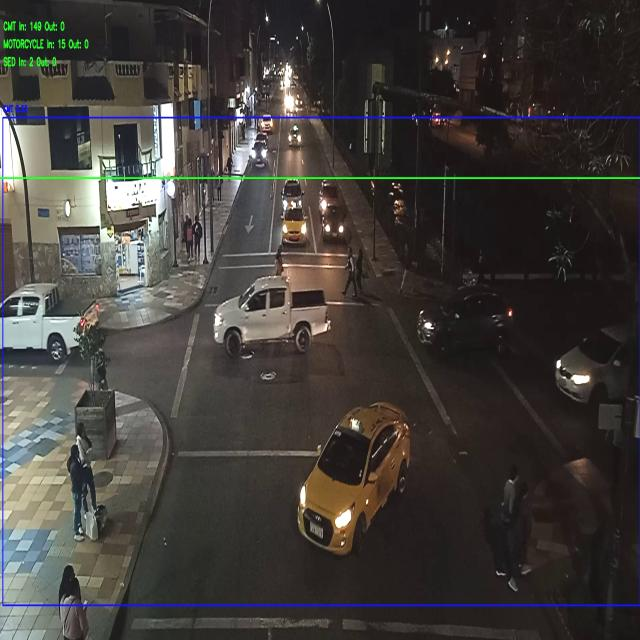CMT: (214, 274, 327, 353), (0, 282, 98, 352)
SED: (300, 407, 404, 548), (555, 327, 626, 400), (282, 208, 306, 242), (322, 208, 344, 240), (289, 128, 300, 146)
SUV: (418, 287, 512, 347), (282, 180, 302, 206), (252, 142, 267, 167), (262, 114, 273, 132)
